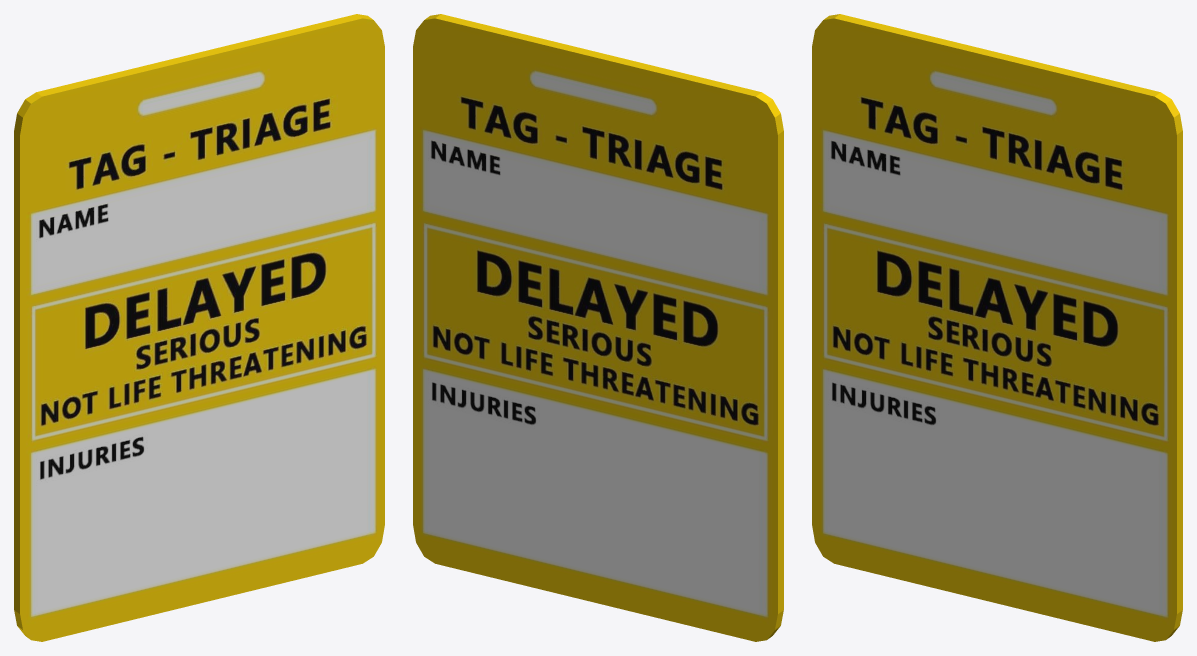
Rendered from Yello.fbx.
3 views of the same model, side by side, from view 1: azimuth 30°, elevation 25°; view 2: azimuth 150°, elevation 25°; view 3: azimuth 330°, elevation 25° (orthographic).
Visible parts, largest first — view 1: Yello; view 2: Yello; view 3: Yello.
Boxes of the visible parts, x1,y1,x2,y2 form: Yello: (14,14,384,641); Yello: (413,14,783,641); Yello: (812,14,1182,641).
Size of the model in its own units: 7.9 by 11.29 by 0.2258.
1 material, 1 textured.
